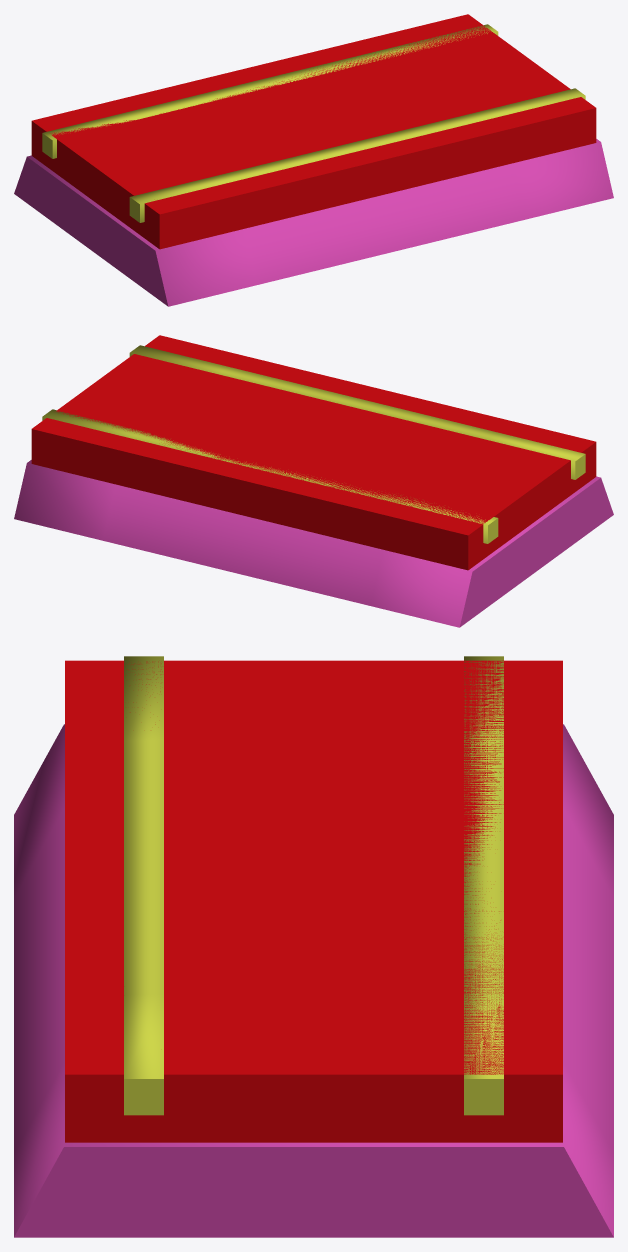
File: short_straight.fbx
3 views of the same model, one above another, from view 1: azimuth 30°, elevation 25°; view 2: azimuth 150°, elevation 25°; view 3: azimuth 270°, elevation 25° (orthographic). The views are drawn at different scales.
Visible parts, largest first — view 1: boundingBox, rails; view 2: boundingBox, rails; view 3: boundingBox, rails.
Boxes of the visible parts, bbox=[...] form: boundingBox: bbox=[31, 14, 596, 249]; rails: bbox=[14, 24, 613, 306]; boundingBox: bbox=[31, 335, 596, 570]; rails: bbox=[14, 345, 613, 627]; boundingBox: bbox=[65, 660, 562, 1142]; rails: bbox=[14, 656, 613, 1237].
Size of the model in its own units: 200 by 35 by 120.
